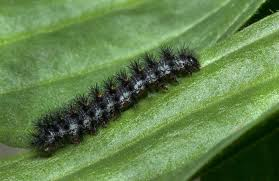Caterpillar: (34, 43, 201, 150)
